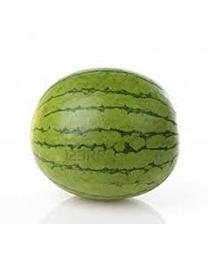watermelon: (30, 68, 181, 201)
